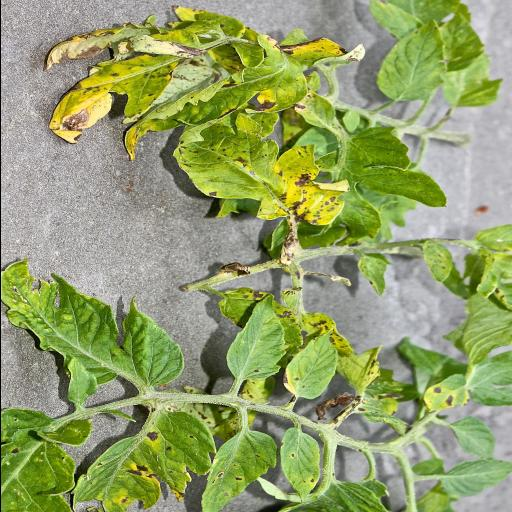Septoria: (0, 256, 190, 394), (120, 32, 308, 162), (168, 124, 346, 226), (69, 406, 219, 512), (50, 53, 181, 145), (194, 429, 280, 512), (220, 290, 288, 384), (279, 328, 342, 400), (276, 428, 324, 498)
